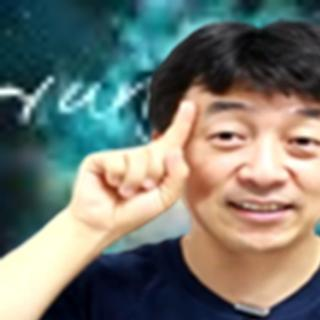IRRITATED: (67, 95, 199, 240)
